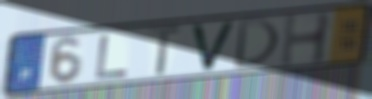6: (48, 35, 85, 86)
D: (231, 17, 282, 71)
H: (277, 10, 335, 69)
L: (92, 33, 132, 82)
T: (145, 24, 185, 78)
V: (188, 19, 239, 74)
